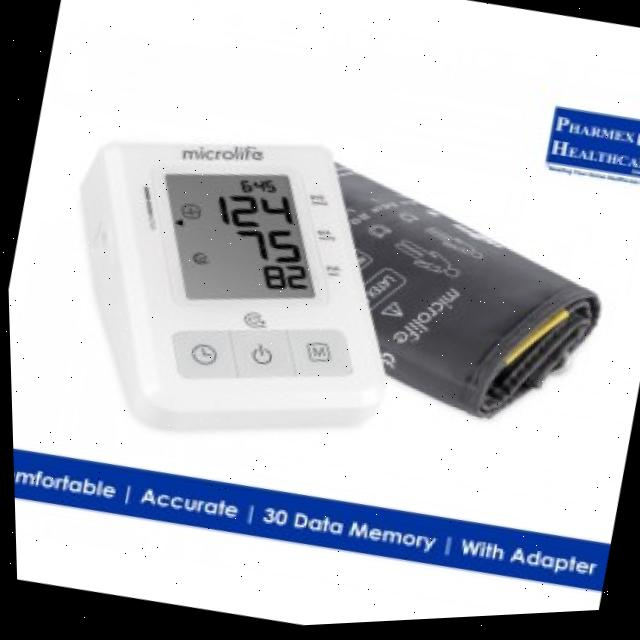dia: (229, 230, 302, 267)
pul: (257, 265, 312, 296)
ssd: (164, 174, 314, 304)
sys: (211, 194, 294, 229)
